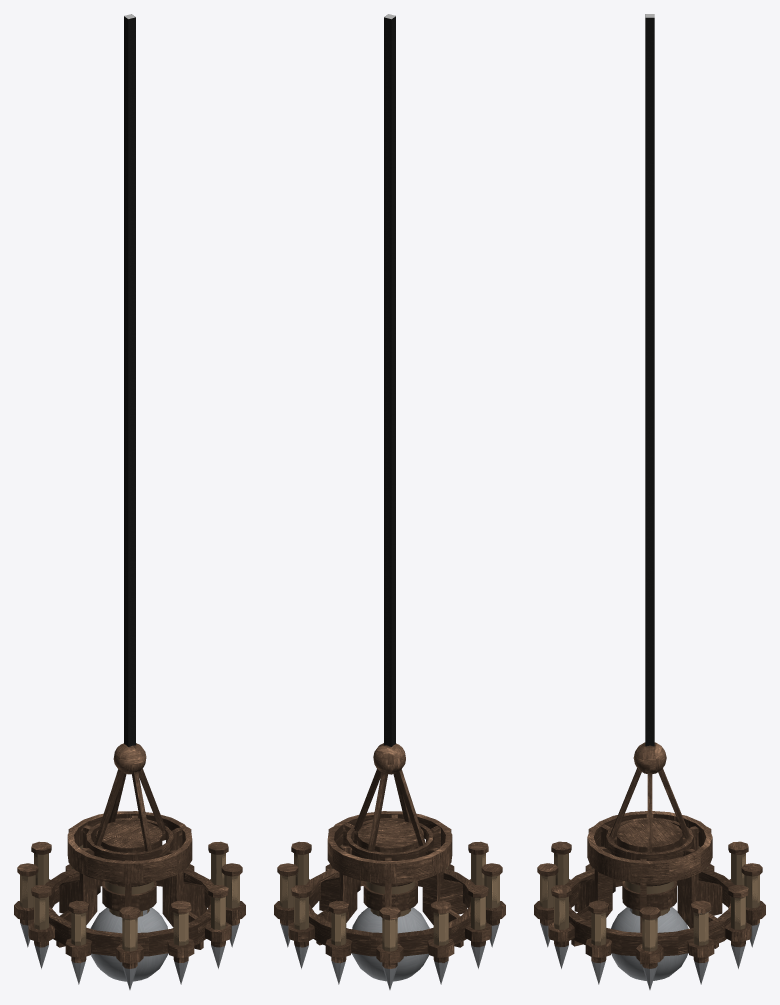
The model's file is SM_Lamp_04.fbx.
3 renders of one model, left to right at view 1: azimuth 30°, elevation 25°; view 2: azimuth 150°, elevation 25°; view 3: azimuth 270°, elevation 25°, orthographic.
Parts seen in each view (by area): view 1: Lamp_Low, Cylinder.001, Sphere.001; view 2: Lamp_Low, Cylinder.001, Sphere.001; view 3: Lamp_Low, Cylinder.001, Sphere.001.
Boxes of the visible parts, box(x1,y1,x2,y2) form: Lamp_Low: box(14, 14, 245, 989); Cylinder.001: box(96, 820, 162, 916); Sphere.001: box(90, 907, 168, 981); Lamp_Low: box(274, 14, 505, 989); Cylinder.001: box(358, 820, 423, 916); Sphere.001: box(352, 907, 429, 981); Lamp_Low: box(534, 14, 765, 989); Cylinder.001: box(617, 819, 682, 915); Sphere.001: box(611, 907, 688, 980).
Size of the model in its own units: 700 by 3204 by 700.
